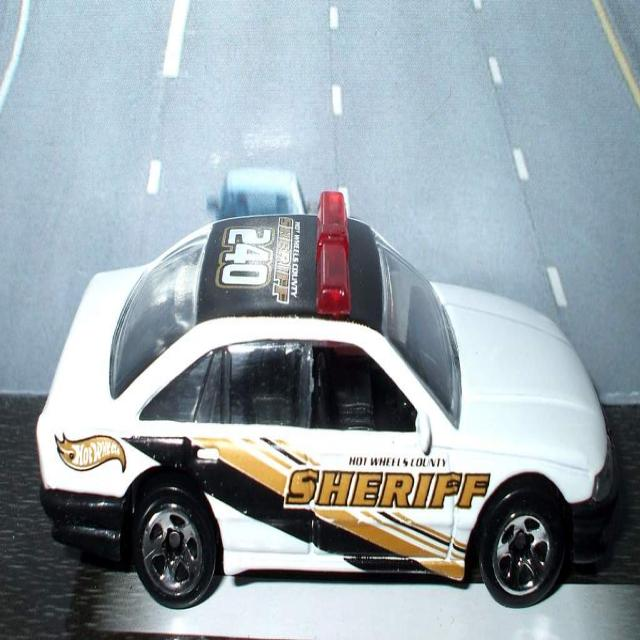car: (38, 183, 615, 608)
